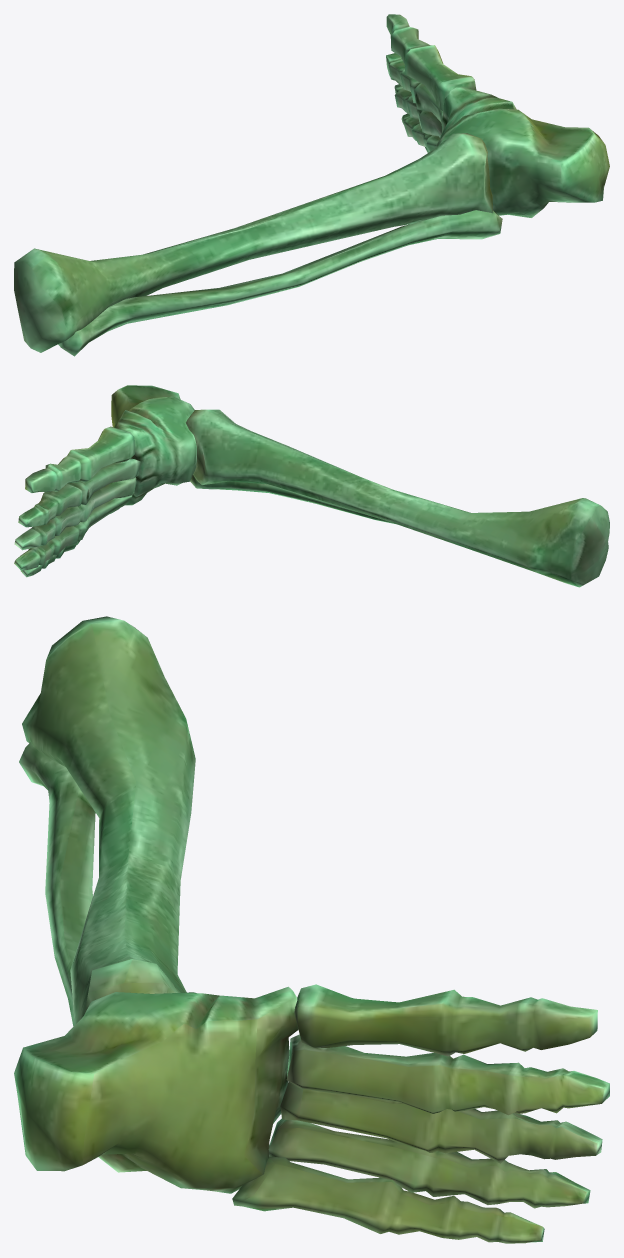
The picture shows the model from 3 angles, top to bottom: view 1: azimuth 30°, elevation 25°; view 2: azimuth 150°, elevation 25°; view 3: azimuth 270°, elevation 25°; orthographic projection. The views are drawn at different scales.
Visible parts, largest first — view 1: SM_U_MED_Skeleton_Human_calf_l_LOD0; view 2: SM_U_MED_Skeleton_Human_calf_l_LOD0; view 3: SM_U_MED_Skeleton_Human_calf_l_LOD0.
Part boxes in pixels (x1,y1,x2,y2): SM_U_MED_Skeleton_Human_calf_l_LOD0: [14, 14, 609, 356]; SM_U_MED_Skeleton_Human_calf_l_LOD0: [14, 385, 609, 587]; SM_U_MED_Skeleton_Human_calf_l_LOD0: [14, 616, 609, 1243].
Bounding box in the file's own units: 0.5242 × 0.1153 × 0.2801.
Materials: 1 (1 with a texture image).
